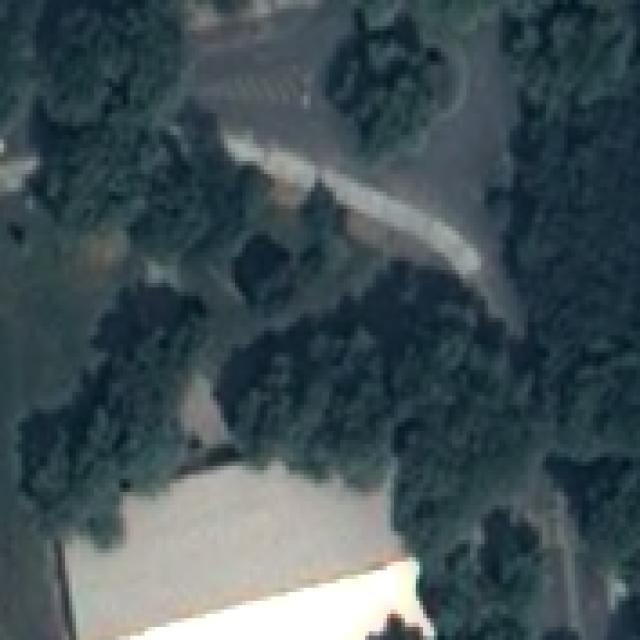trees: (426, 1, 640, 640), (225, 262, 540, 558), (23, 288, 211, 547), (34, 1, 189, 230), (131, 101, 272, 264), (41, 1, 185, 127), (330, 14, 446, 156), (424, 510, 547, 640), (1, 1, 49, 127), (379, 624, 437, 640), (553, 632, 585, 640)
